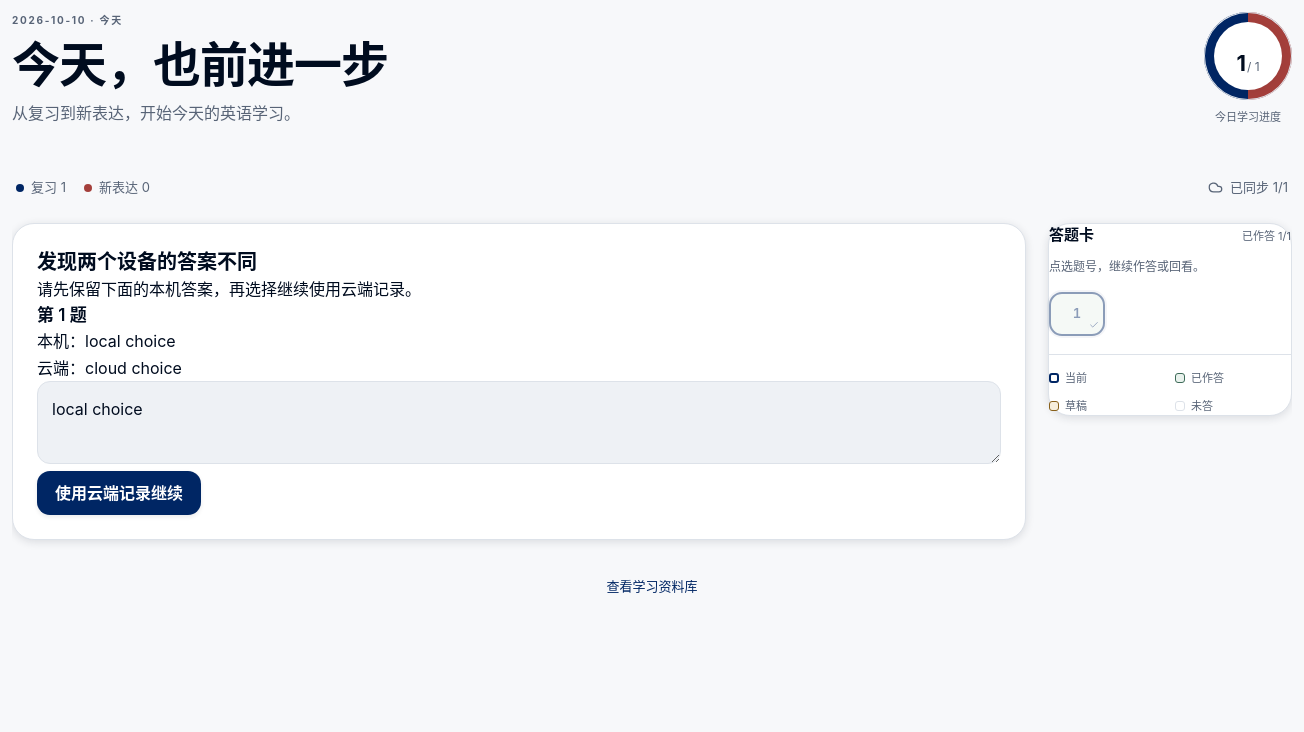
Scenario: ReviewView › does not silently overwrite a different local answer with cloud state
Expected: the button "查看学习资料库" is shown, 606,564 -> 698,608
Expected: the heading "发现两个设备的答案不同" is shown, 37,250 -> 257,274
Step 1. Click the button "使用云端记录继续" → (119, 493), box 37,471 -> 201,515
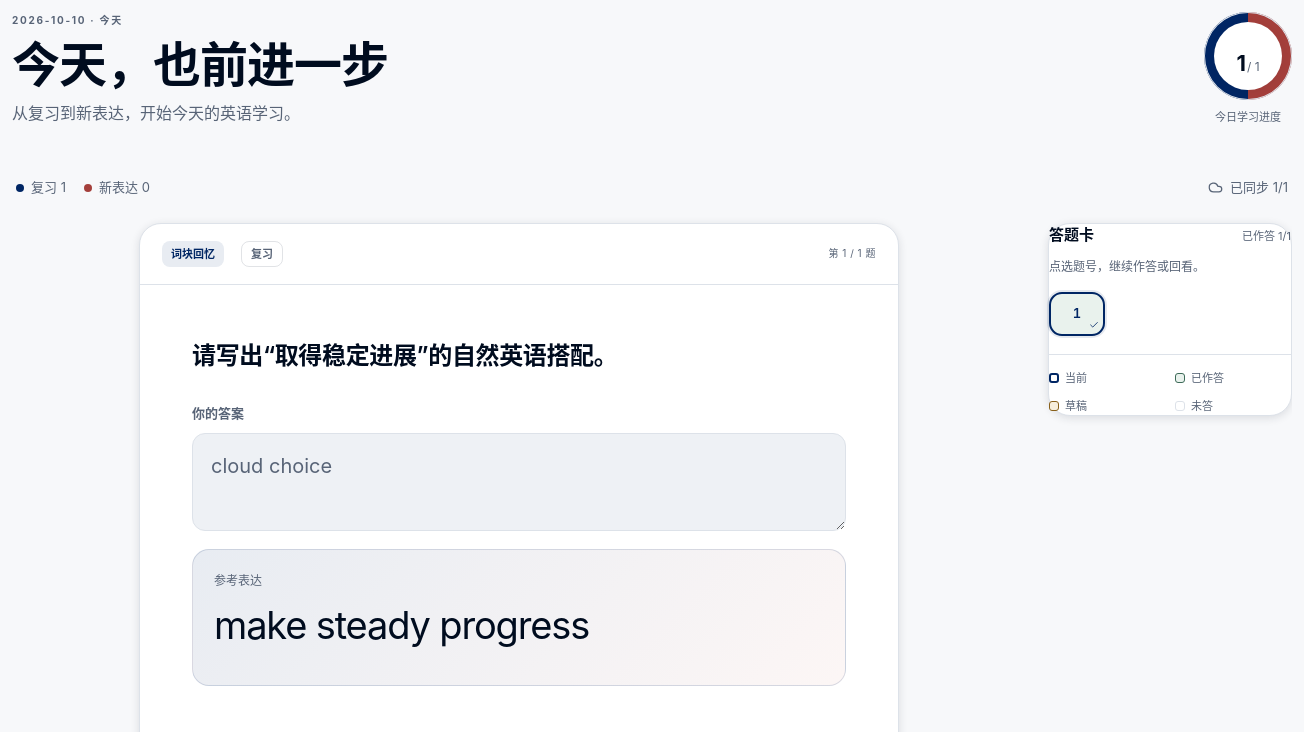
Expected: the text box labelled "你的答案" holds "cloud choice", 192,433 -> 846,531
